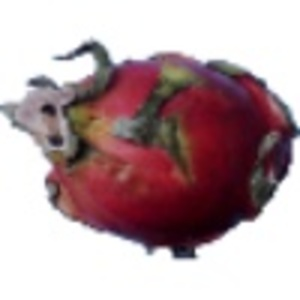pitaia: (1, 38, 300, 262)
